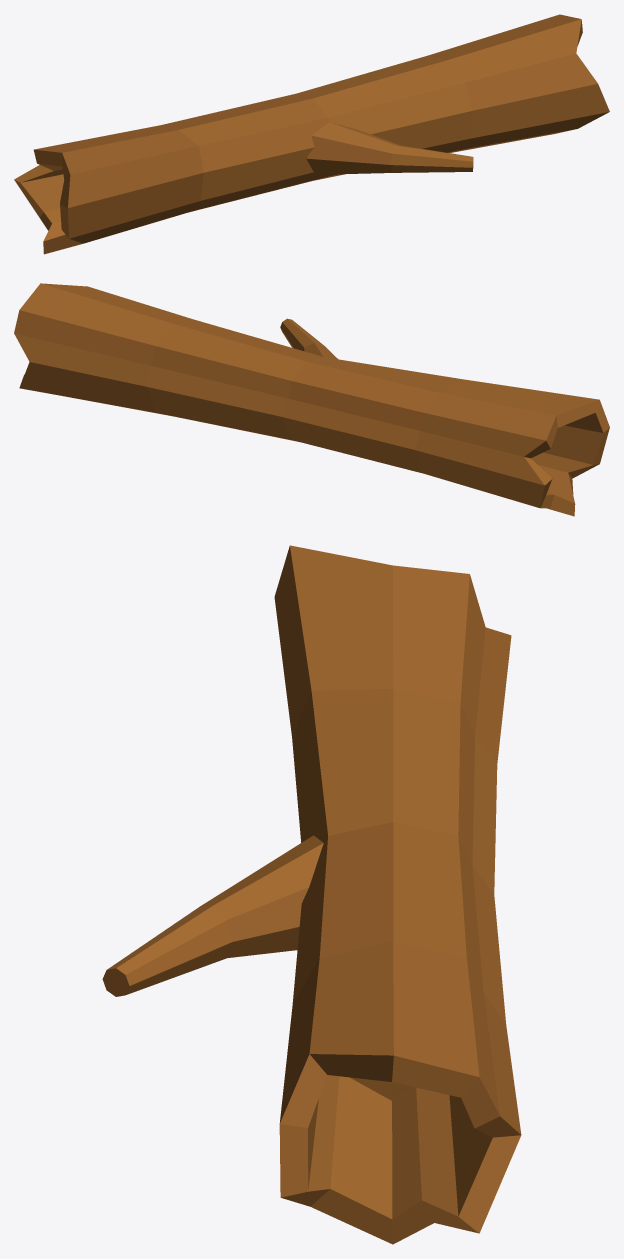
File: trunk_01.fbx
3 renders of one model, top to bottom at view 1: azimuth 30°, elevation 25°; view 2: azimuth 150°, elevation 25°; view 3: azimuth 270°, elevation 25°, orthographic. The views are drawn at different scales.
Parts seen in each view (by area): view 1: trunk_01; view 2: trunk_01; view 3: trunk_01.
Boxes of the visible parts, bbox=[...] form: trunk_01: bbox=[14, 14, 609, 254]; trunk_01: bbox=[14, 283, 609, 516]; trunk_01: bbox=[102, 545, 521, 1244].
Bounding box in the file's own units: 567 × 107 × 190.
